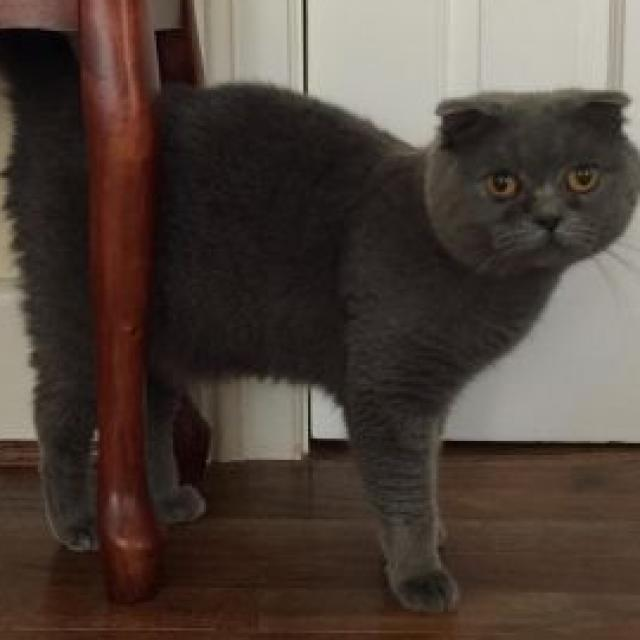Scottish Fold: (0, 24, 640, 621)
